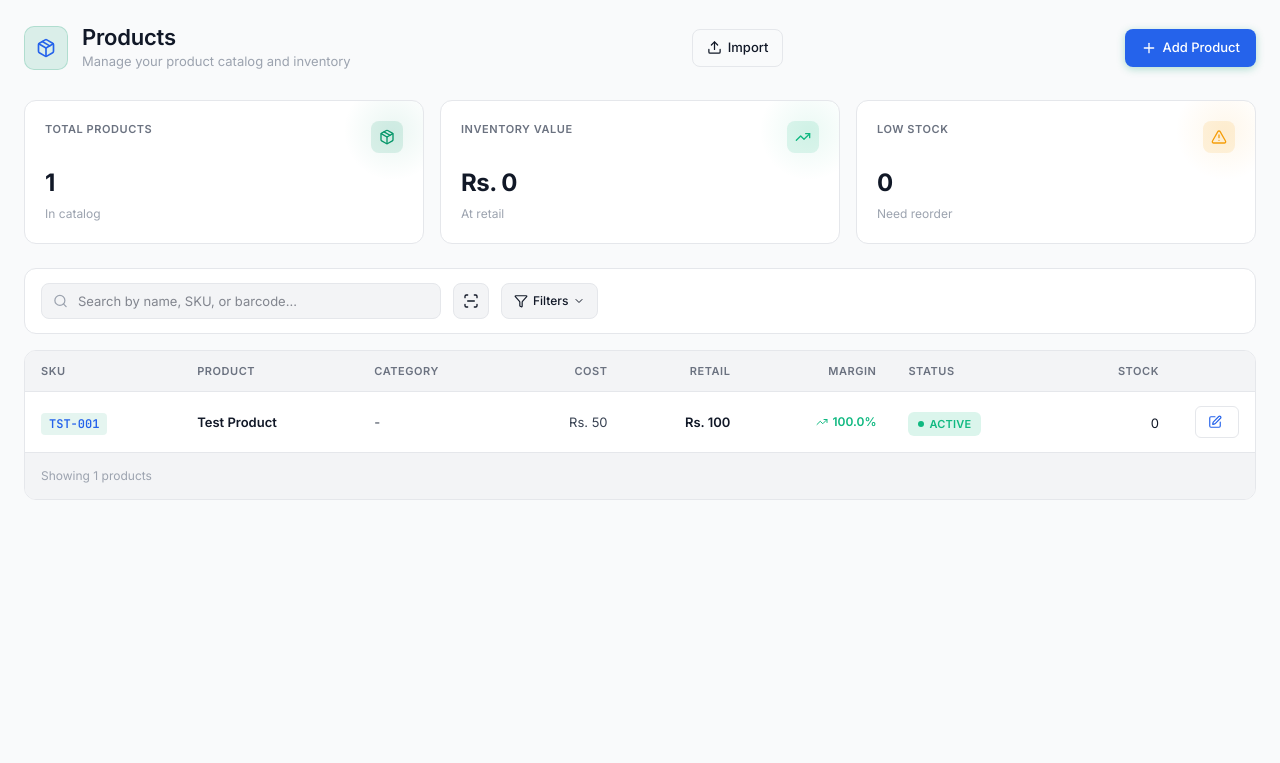
track_stock radio › pre-populates from product data when editing (false)
The width and height of the screenshot is (1280, 763).
Expected: the text "TST-001" is shown, [41, 413, 107, 435]
Step 1. Click the button named "edit test product" → (1217, 422), box [1195, 406, 1239, 438]
(page scrolled)
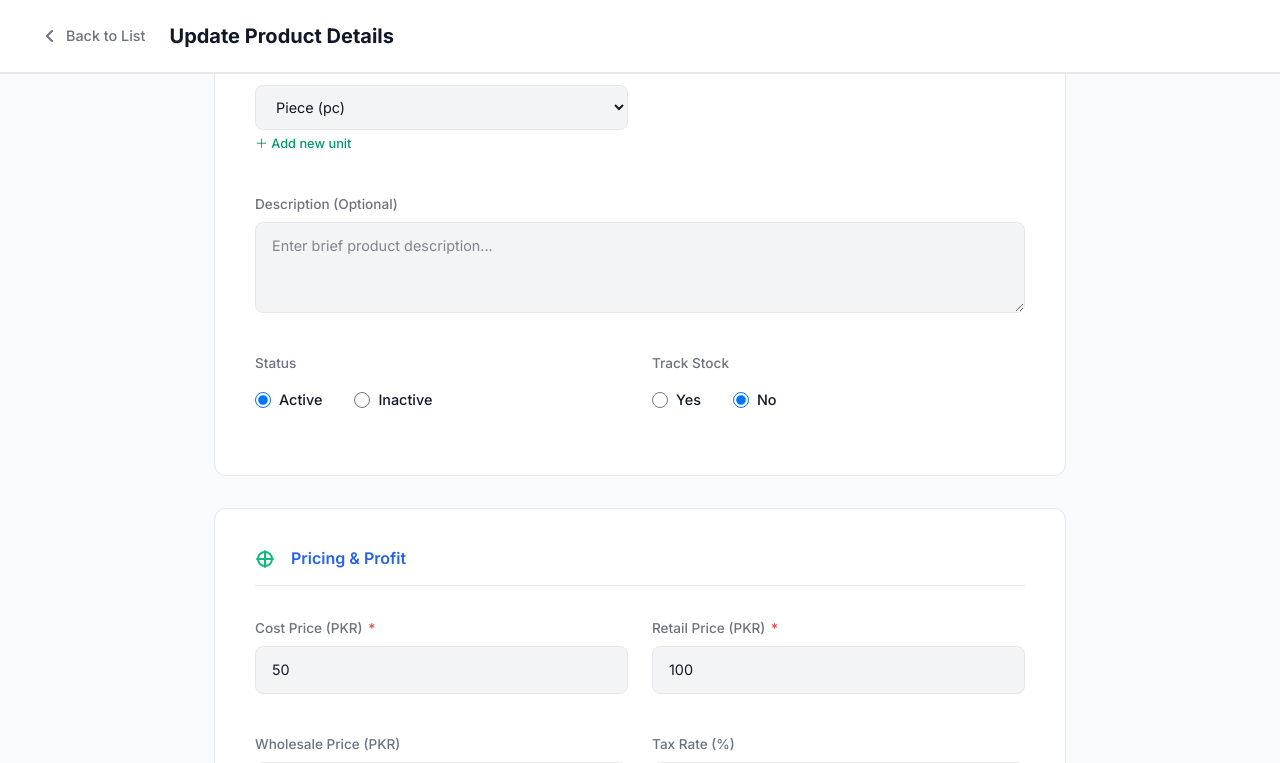
Result: the radio button labelled "No" is checked at [733, 392, 749, 408]
Result: the radio button labelled "Yes" is not checked at [652, 392, 668, 408]
